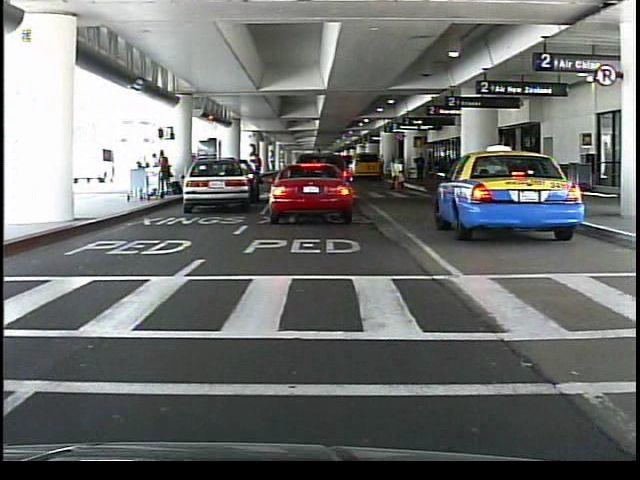person: (313, 153, 327, 202), (160, 148, 174, 197), (389, 151, 404, 189), (297, 164, 310, 202), (414, 151, 427, 185), (251, 152, 265, 181)
